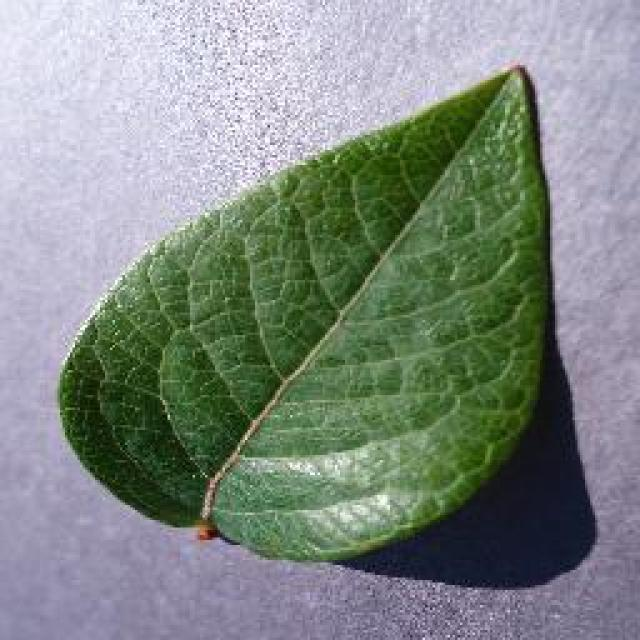Blu_healthy: (168, 159, 498, 479)
